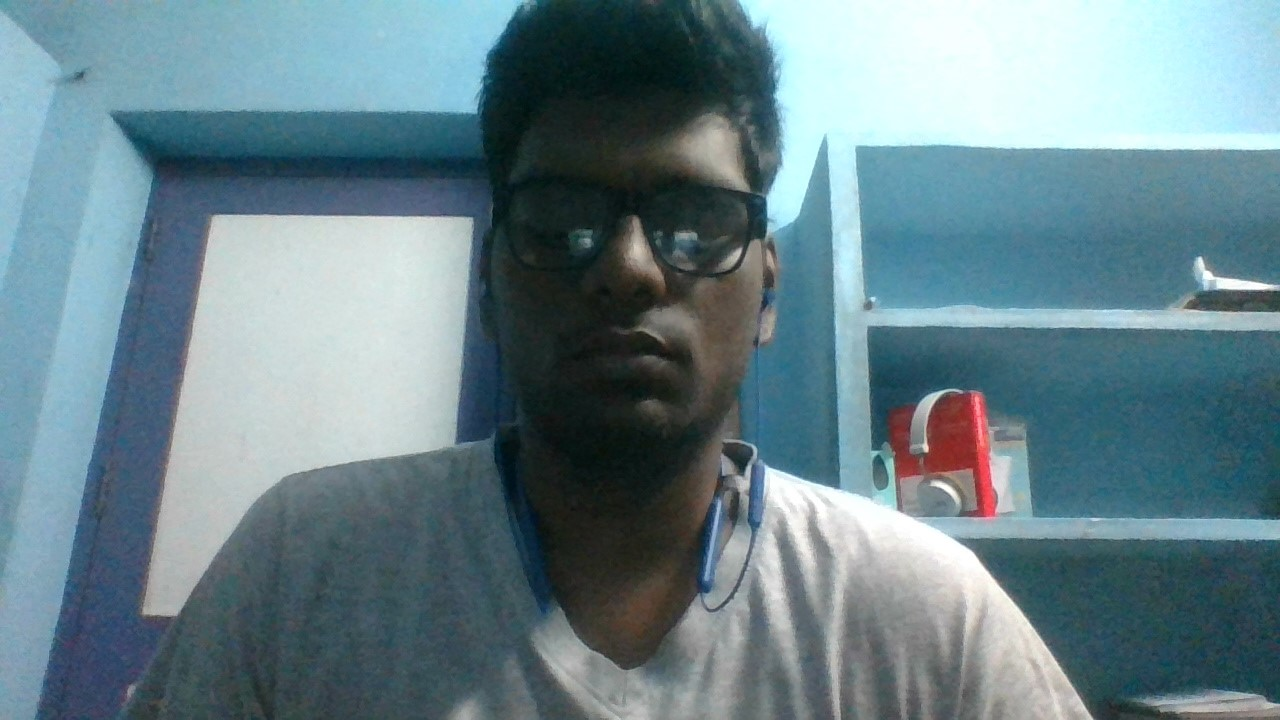person: (164, 2, 1045, 720)
